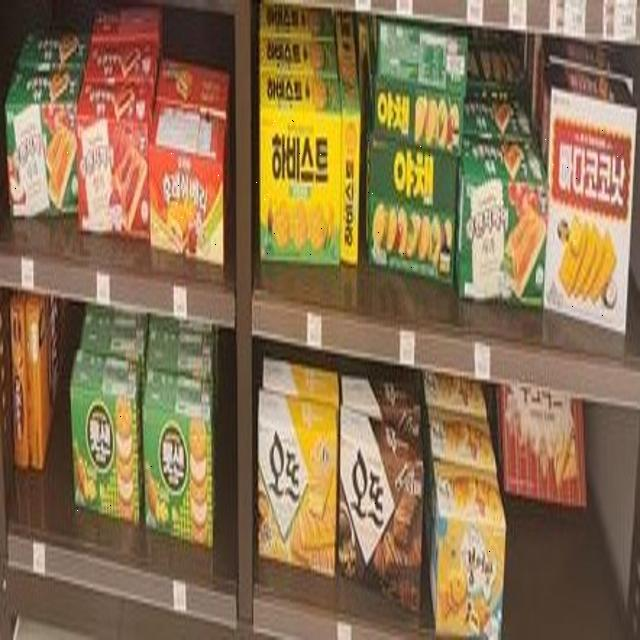product: (545, 94, 630, 322), (334, 414, 421, 595), (255, 109, 340, 265), (368, 138, 459, 279), (67, 390, 138, 515), (145, 408, 209, 541), (150, 149, 223, 257), (8, 106, 78, 216), (437, 518, 503, 630)
